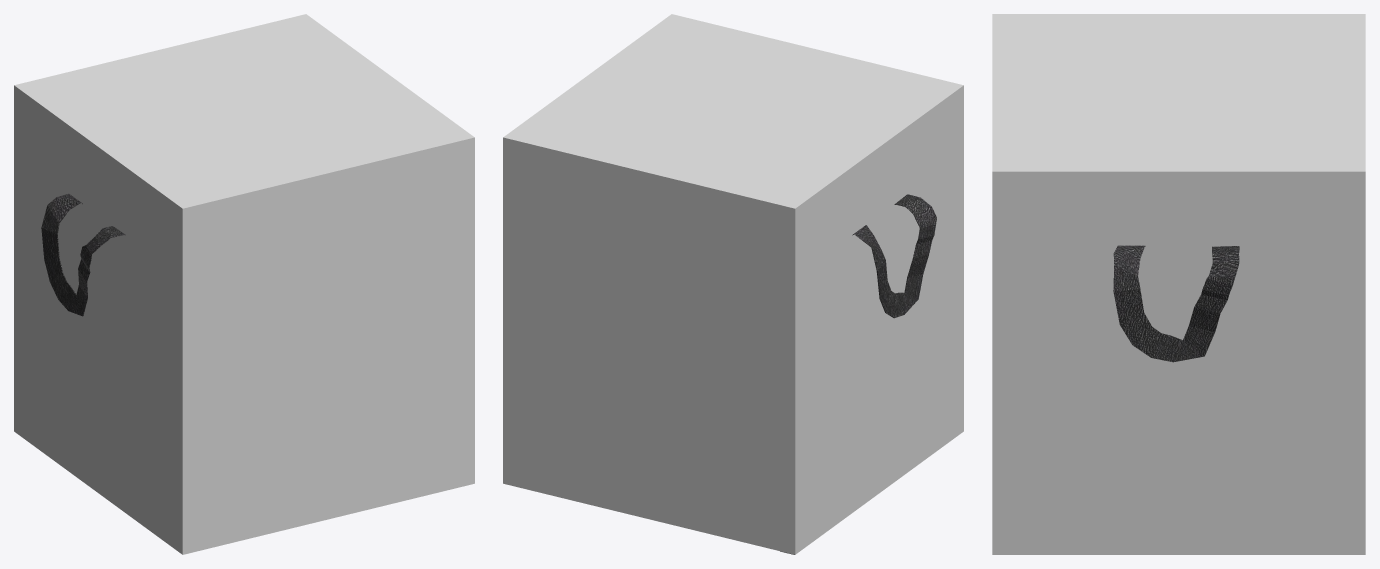
Rendered from Grpkassev2.fbx.
The picture shows the model from 3 angles, left to right: view 1: azimuth 30°, elevation 25°; view 2: azimuth 150°, elevation 25°; view 3: azimuth 270°, elevation 25°; orthographic projection. The views are drawn at different scales.
Visible parts, largest first — view 1: Geom, Haandtag; view 2: Geom, Haandtag; view 3: Geom, Haandtag.
Boxes of the visible parts, bbox=[...] form: Geom: bbox=[14, 14, 474, 554]; Haandtag: bbox=[41, 193, 125, 316]; Geom: bbox=[503, 14, 963, 554]; Haandtag: bbox=[852, 194, 936, 318]; Geom: bbox=[992, 14, 1365, 554]; Haandtag: bbox=[1113, 245, 1239, 362].
Size of the model in its own units: 64.67 by 60.51 by 53.1.
